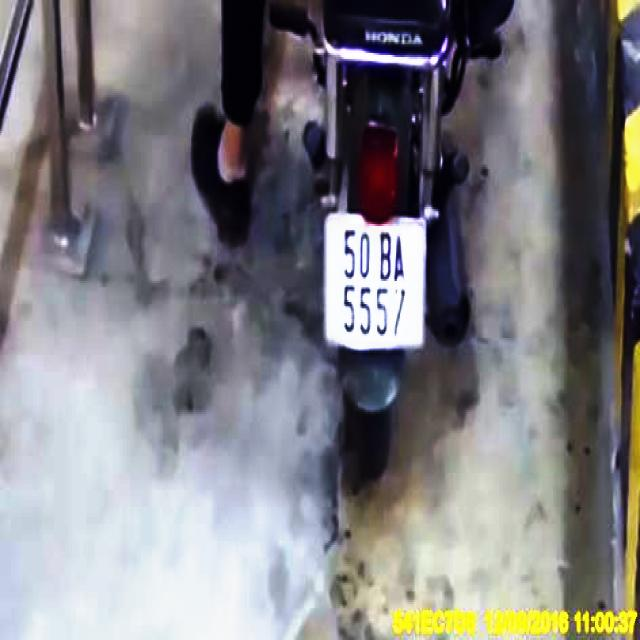license_plate: (324, 212, 427, 352)
